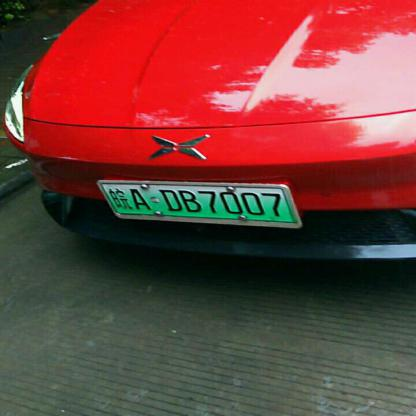lp: (98, 182, 298, 224)
